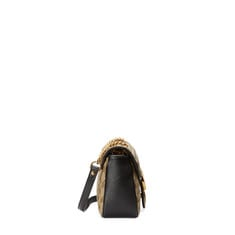Gucci: (80, 138, 145, 219)
